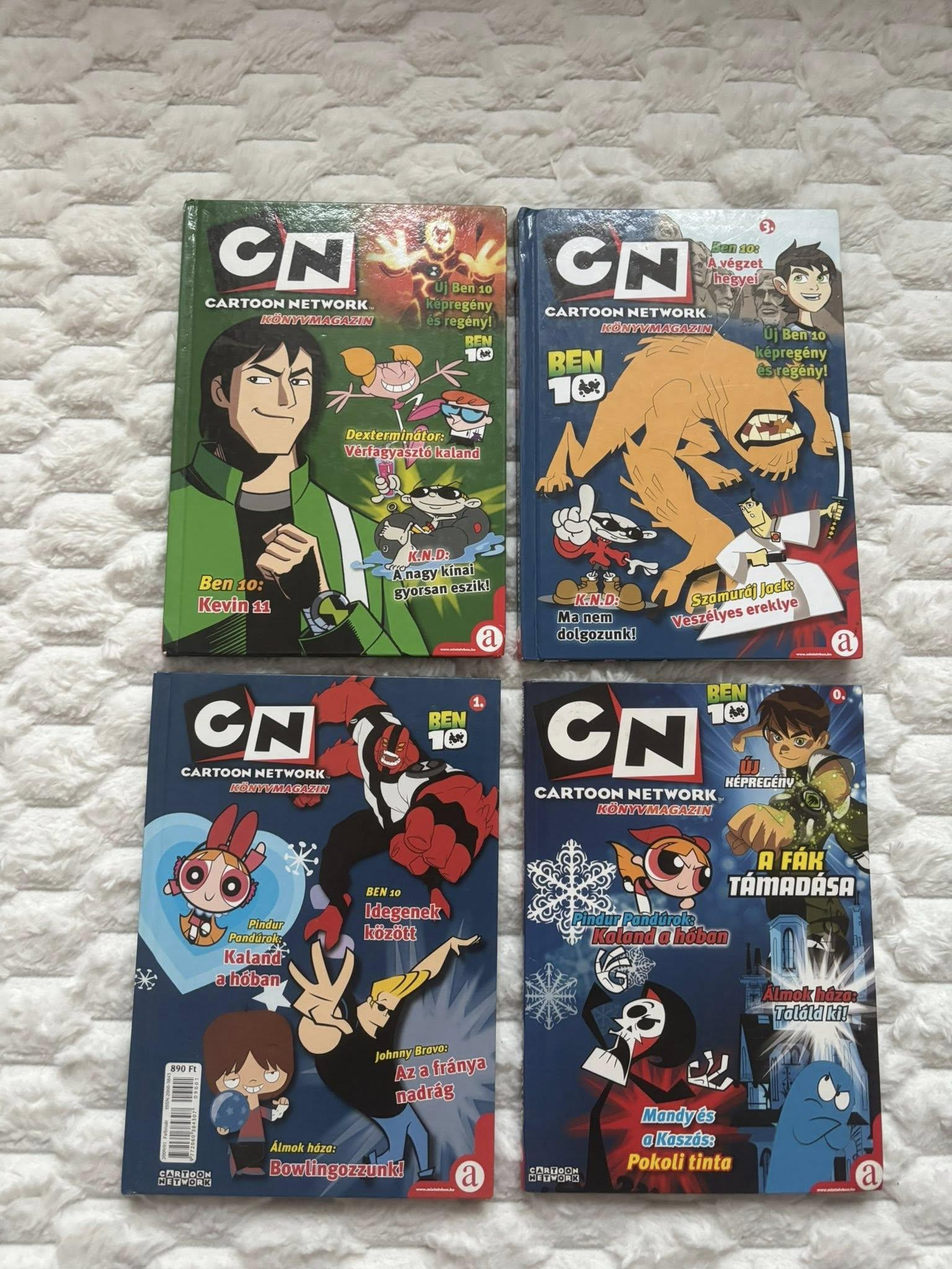comic: (123, 673, 500, 1199), (525, 683, 882, 1193), (517, 206, 861, 661), (164, 201, 506, 656)
